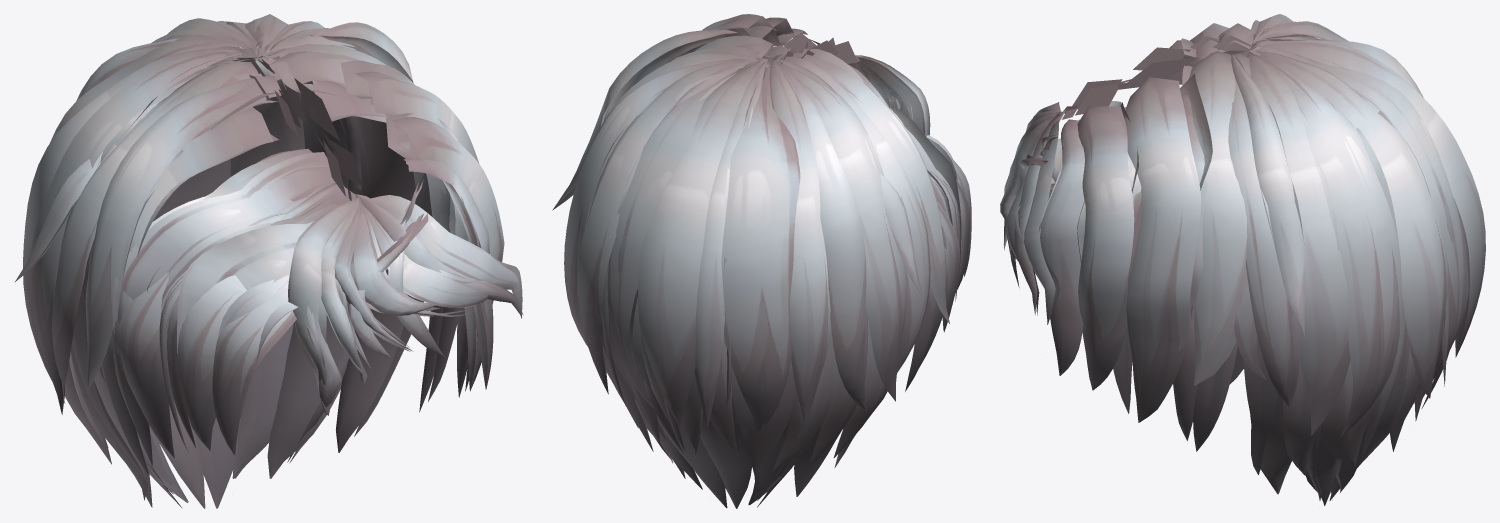
The model's file is vroid_hair_c11.glb.
3 renders of one model, left to right at view 1: azimuth 30°, elevation 25°; view 2: azimuth 150°, elevation 25°; view 3: azimuth 270°, elevation 25°, orthographic. The views are drawn at different scales.
Visible parts, largest first — view 1: hair; view 2: hair; view 3: hair.
Boxes of the visible parts, x1,y1,x2,y2 form: hair: (14, 14, 523, 508); hair: (552, 14, 971, 508); hair: (1000, 14, 1485, 505).
Size of the model in its own units: 0.2086 by 0.2332 by 0.2201.
Materials: 2 (2 with a texture image).
